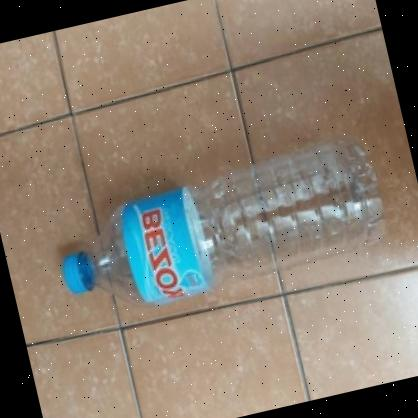bottle: (43, 125, 405, 323)
cap: (52, 242, 96, 301)
label: (123, 181, 211, 314)
